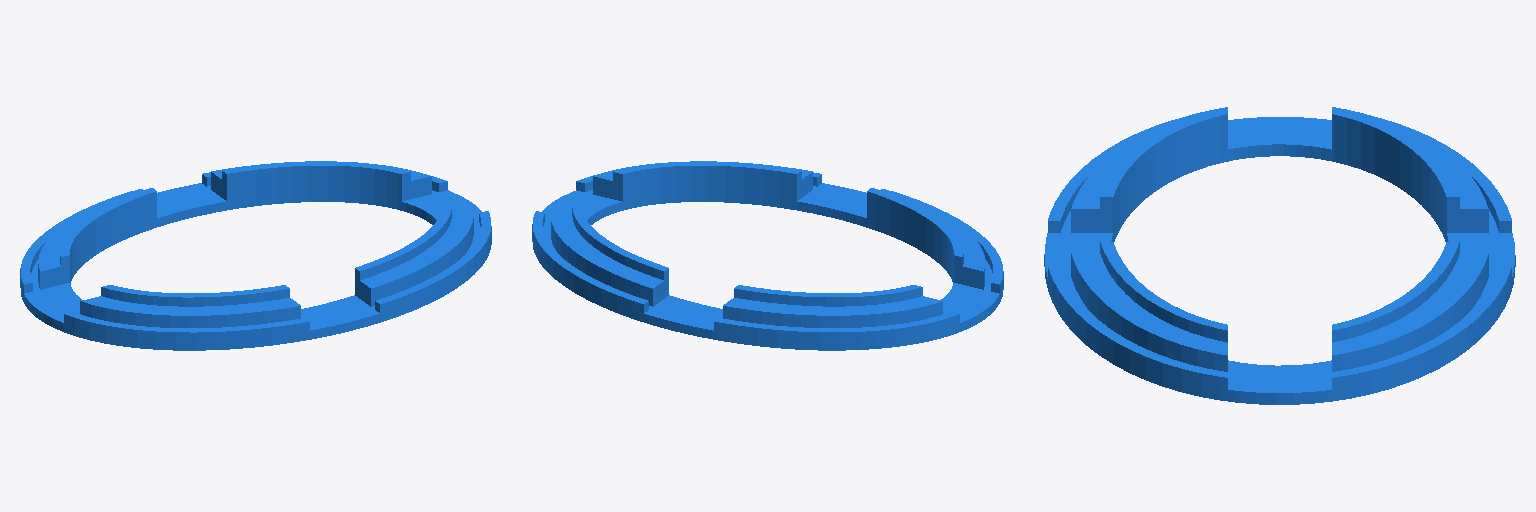
The robot description file, URDF, robot "belt_chain_holder":
<?xml version="1.0" encoding="utf-8"?>

<robot name="belt_chain_holder">
    <link name="belt_chain_holder_first_half">
        <visual name="belt_chain_holder_first_half">
            <origin rpy="-1.57079 0 0" xyz="0 0 0"/>
            <geometry>
                <mesh filename="belt_chain_holder_half.obj"/>
            </geometry>
            <material name="blue">
              <color rgba="0.2 0.6 1.0 1"/>
            </material>
        </visual>
        <collision name="bottom_plate">
          <geometry>
            <mesh filename="bottom_plate.obj"/>
          </geometry>
        </collision>
        <collision name="quarter_ellipse_bottom_1">
          <origin rpy="0 0 0" xyz="0 0 0.005"/>
          <geometry>
            <mesh filename="quarter_ellipse_bottom.obj"/>
          </geometry>
        </collision>
        <collision name="quarter_ellipse_top_1">
          <origin rpy="0 0 0" xyz="0 0 0.015"/>
          <geometry>
            <mesh filename="quarter_ellipse_top.obj"/>
          </geometry>
        </collision>
        <collision name="quarter_ellipse_bottom_2">
          <origin rpy="0 0 3.14159" xyz="0 0 0.005"/>
          <geometry>
            <mesh filename="quarter_ellipse_bottom.obj"/>
          </geometry>
        </collision>
        <collision name="quarter_ellipse_top_2">
          <origin rpy="0 0 3.14159" xyz="0 0 0.015"/>
          <geometry>
            <mesh filename="quarter_ellipse_top.obj"/>
          </geometry>
        </collision>
    </link>
    <link name="belt_chain_holder_second_half">
        <visual name="belt_chain_holder_second_half">
            <origin rpy="-1.57079 0 3.14159" xyz="0 0 0"/>
            <geometry>
                <mesh filename="belt_chain_holder_half.obj"/>
            </geometry>
            <material name="blue">
              <color rgba="0.2 0.6 1.0 1"/>
            </material>
        </visual>
        <collision name="quarter_ellipse_bottom_1">
          <origin rpy="3.14159 0 0" xyz="0 0 0.015"/>
          <geometry>
            <mesh filename="quarter_ellipse_bottom.obj"/>
          </geometry>
        </collision>
        <collision name="quarter_ellipse_top_1">
          <origin rpy="3.14159 0 0" xyz="0 0 0.020"/>
          <geometry>
            <mesh filename="quarter_ellipse_top.obj"/>
          </geometry>
        </collision>
        <collision name="quarter_ellipse_bottom_2">
          <origin rpy="3.14159 0 3.14159" xyz="0 0 0.015"/>
          <geometry>
            <mesh filename="quarter_ellipse_bottom.obj"/>
          </geometry>
        </collision>
        <collision name="quarter_ellipse_top_2">
          <origin rpy="3.14159 0 3.14159" xyz="0 0 0.020"/>
          <geometry>
            <mesh filename="quarter_ellipse_top.obj"/>
          </geometry>
        </collision>
    </link>
    <joint name="belt_chain_holder_first_half_to_second_half" type="fixed">
        <parent link="belt_chain_holder_first_half"/>
        <child link="belt_chain_holder_second_half"/>
        <origin rpy="0 0 0" xyz="0 0 0"/>
    </joint>
</robot>

--- Facts derived from the render (not from the file) ---
3 views of the same robot in one strip: view 1: azimuth 30°, elevation 25°; view 2: azimuth 150°, elevation 25°; view 3: azimuth 270°, elevation 25° (orthographic).
Robot: belt_chain_holder — 2 links, 1 joints (1 fixed); root link belt_chain_holder_first_half; default pose: every joint at zero.
Visible links, largest first — view 1: belt_chain_holder_second_half, belt_chain_holder_first_half; view 2: belt_chain_holder_second_half, belt_chain_holder_first_half; view 3: belt_chain_holder_first_half, belt_chain_holder_second_half.
Boxes of the visible links, box(x1,y1,x2,y2) form: belt_chain_holder_second_half: box(20, 188, 345, 350); belt_chain_holder_first_half: box(166, 161, 491, 331); belt_chain_holder_second_half: box(669, 188, 1003, 350); belt_chain_holder_first_half: box(532, 161, 866, 331); belt_chain_holder_first_half: box(1044, 242, 1515, 404); belt_chain_holder_second_half: box(1044, 107, 1514, 265).
Bounding box of the posed robot: 0.25 × 0.18 × 0.02 m (x, y, z).
Meshes: 1 distinct files referenced, 2 mesh visuals loaded (1 OBJ).
